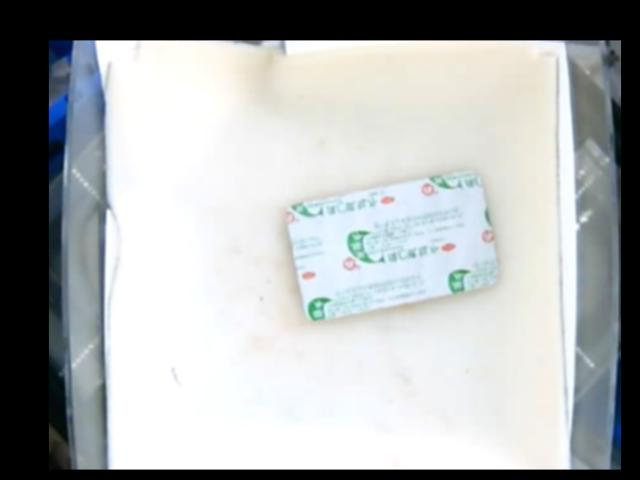Medicine: (286, 169, 497, 325)
